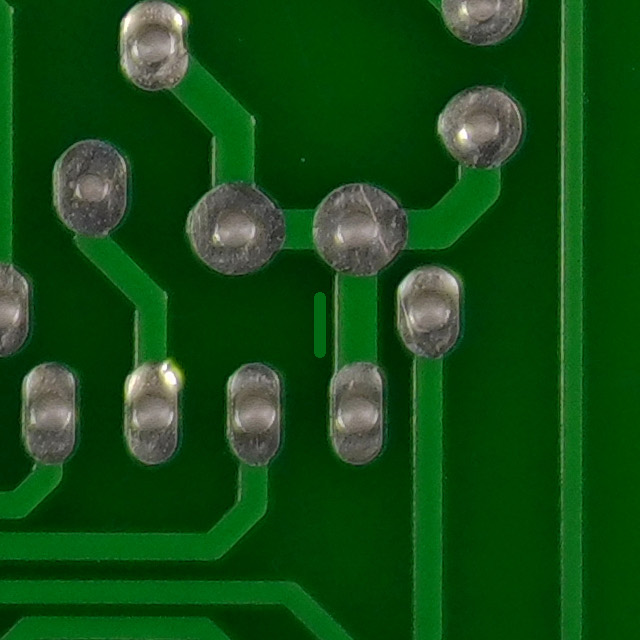spurious_copper: (295, 275, 345, 366)
